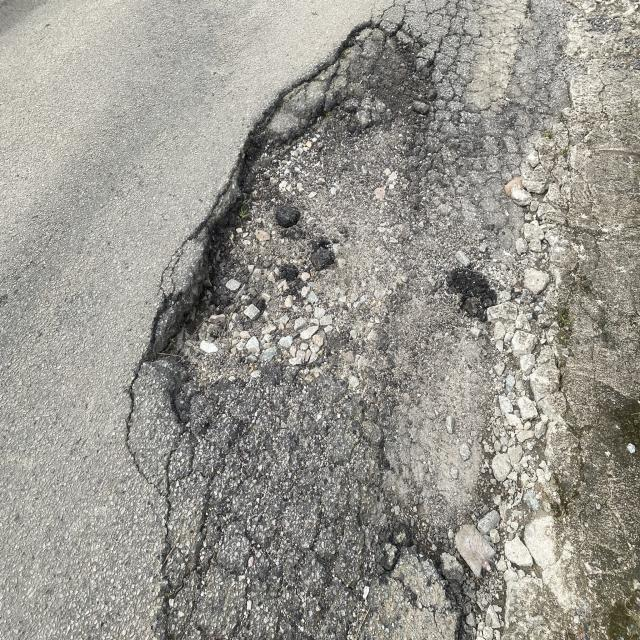Pothole: (121, 0, 426, 488)
